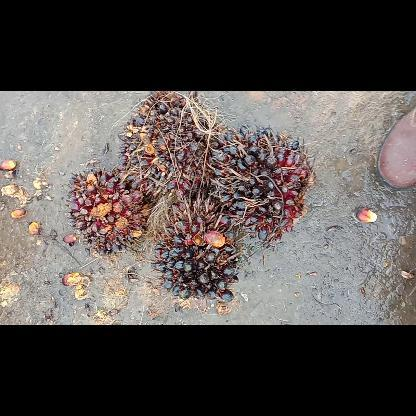TBS abnormal: (199, 124, 319, 246), (150, 206, 244, 306)
TBS masak: (114, 91, 226, 203), (62, 166, 160, 258)
